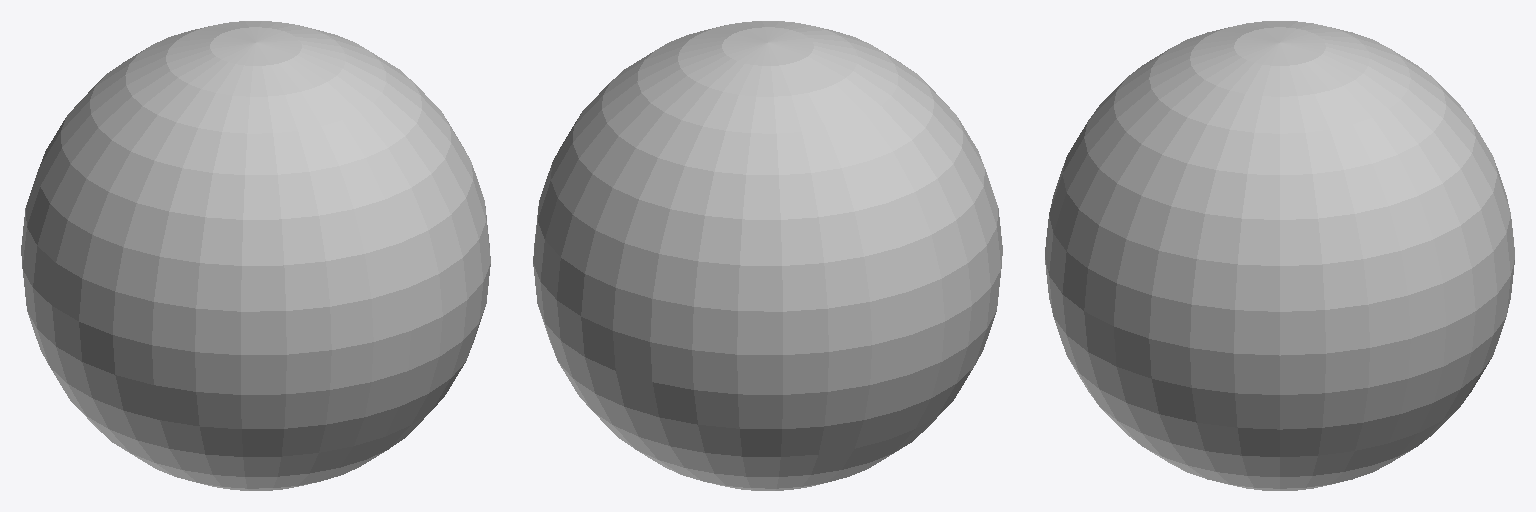
The model's file is Earth.obj.
3 views of the same model, side by side, from view 1: azimuth 30°, elevation 25°; view 2: azimuth 150°, elevation 25°; view 3: azimuth 270°, elevation 25° (orthographic).
Parts seen in each view (by area): view 1: Earth; view 2: Earth; view 3: Earth.
Part boxes in pixels (x1,y1,x2,y2): Earth: (21,21,490,490); Earth: (533,21,1002,490); Earth: (1045,21,1514,490).
Bounding box in the file's own units: 85.44 × 85.44 × 85.44.